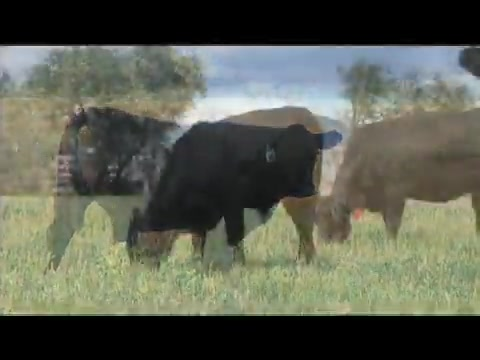cow: (128, 125, 347, 270), (281, 109, 480, 263), (37, 107, 179, 275)
